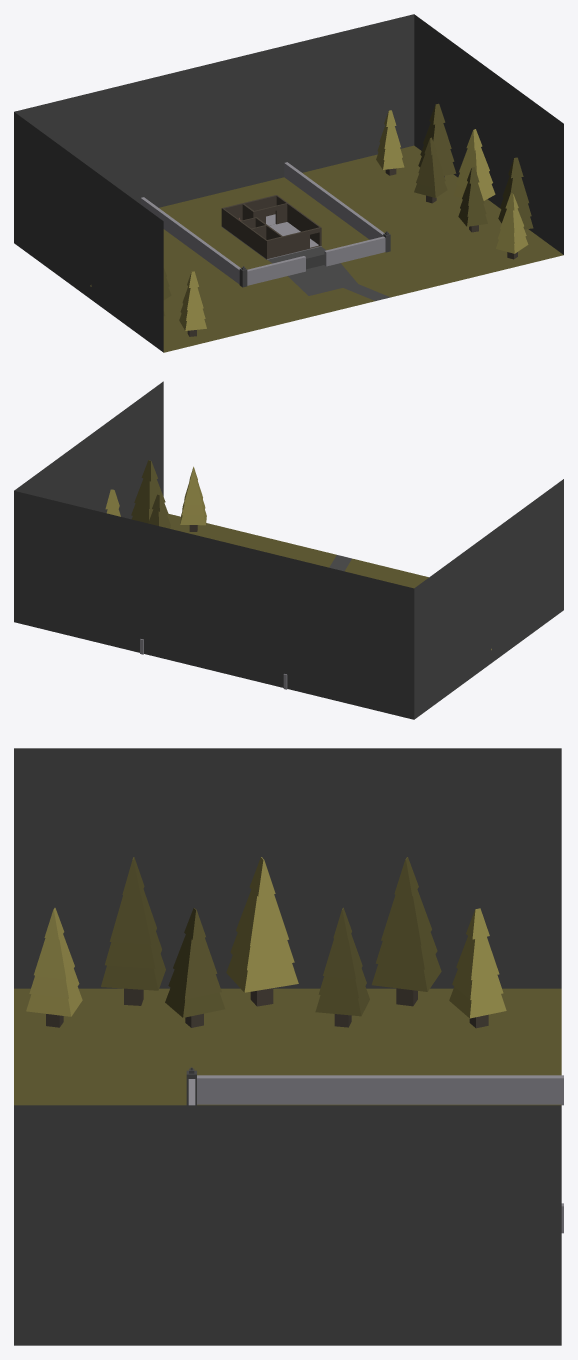
File: mapa.fbx
3 renders of one model, top to bottom at view 1: azimuth 30°, elevation 25°; view 2: azimuth 150°, elevation 25°; view 3: azimuth 270°, elevation 25°, orthographic. The views are drawn at different scales.
Visible parts, largest first — view 1: Grama, Parede, Muro, Muro.004, Muro.003, Árvore Folhas.008, Árvore Folhas.007, Árvore Folhas.011, Árvore Folhas.013, Árvore Folhas.009, Árvore Folhas.012, Árvore Folhas.010 (+2 smaller); view 2: Grama, Árvore Folhas.009, Árvore Folhas.013, Árvore Folhas.012; view 3: Grama, Muro.003, Árvore Folhas.001, Árvore Folhas.002, Árvore Folhas, Árvore Folhas.004, Árvore Folhas.006, Árvore Folhas.003, Árvore Folhas.005.
Boxes of the visible parts, box(x1,y1,x2,y2) form: Grama: box(14, 14, 563, 352); Parede: box(221, 195, 321, 258); Muro: box(247, 236, 385, 285); Muro.004: box(284, 162, 384, 239); Muro.003: box(140, 197, 240, 284); Árvore Folhas.008: box(453, 129, 495, 200); Árvore Folhas.007: box(418, 103, 456, 175); Árvore Folhas.011: box(414, 137, 447, 197); Árvore Folhas.013: box(496, 193, 528, 253); Árvore Folhas.009: box(498, 157, 533, 229); Árvore Folhas.012: box(458, 167, 487, 226); Árvore Folhas.010: box(376, 110, 404, 169); Grama: box(14, 381, 563, 719); Árvore Folhas.009: box(131, 460, 170, 525); Árvore Folhas.013: box(180, 466, 206, 525); Árvore Folhas.012: box(148, 494, 170, 528); Grama: box(14, 748, 561, 1345); Muro.003: box(197, 1075, 563, 1105); Árvore Folhas.001: box(226, 857, 298, 992); Árvore Folhas.002: box(371, 857, 441, 991); Árvore Folhas: box(101, 857, 165, 990); Árvore Folhas.004: box(165, 908, 224, 1017); Árvore Folhas.006: box(449, 908, 506, 1018); Árvore Folhas.003: box(26, 908, 82, 1016); Árvore Folhas.005: box(315, 907, 369, 1016).
Size of the model in its own units: 8008 by 2699 by 5207.
